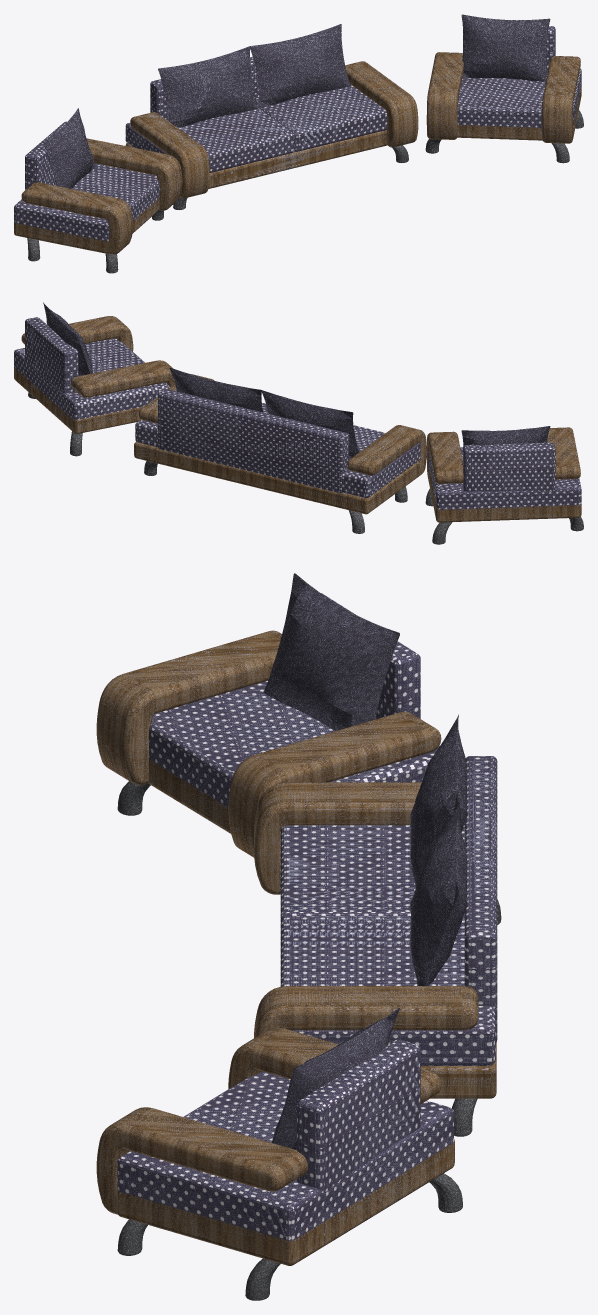
3 renders of one model, top to bottom at view 1: azimuth 30°, elevation 25°; view 2: azimuth 150°, elevation 25°; view 3: azimuth 270°, elevation 25°, orthographic. The views are drawn at different scales.
Visible parts, largest first — view 1: Rectangle2 (×4), ChamferBo0 (×2), hgjhg02 (×2), hgjhg06 (×2), ChamferBox_1 (×2), Rectangle5 (×2), hgjhg, hgjhg04 (×2), Component_1 (×2), hgjhg03; view 2: hgjhg03, hgjhg06 (×2), Component_1 (×2), Rectangle2 (×4), hgjhg, ChamferBo0 (×2), hgjhg04 (×2), hgjhg02 (×2), Rectangle5 (×2), ChamferBox_1 (×2); view 3: Rectangle2 (×4), hgjhg06 (×2), hgjhg02 (×2), Rectangle5 (×2), ChamferBox_1 (×2), Component_1 (×2), ChamferBo0 (×2), hgjhg04 (×2), hgjhg03, hgjhg, ChamferCyl.
Boxes of the visible parts, x1=… form: Rectangle2 (×4): x1=21, y1=52, x2=580, y2=254; ChamferBo0 (×2): x1=158, y1=24, x2=350, y2=127; hgjhg02 (×2): x1=125, y1=84, x2=387, y2=172; hgjhg06 (×2): x1=14, y1=68, x2=581, y2=241; ChamferBox_1 (×2): x1=43, y1=14, x2=550, y2=188; Rectangle5 (×2): x1=130, y1=61, x2=418, y2=198; hgjhg: x1=125, y1=130, x2=386, y2=188; hgjhg04 (×2): x1=14, y1=85, x2=581, y2=253; Component_1 (×2): x1=25, y1=26, x2=555, y2=190; hgjhg03: x1=150, y1=57, x2=259, y2=119; hgjhg03: x1=158, y1=389, x2=349, y2=493; hgjhg06 (×2): x1=14, y1=338, x2=581, y2=509; Component_1 (×2): x1=25, y1=317, x2=555, y2=516; Rectangle2 (×4): x1=21, y1=316, x2=580, y2=483; hgjhg: x1=134, y1=442, x2=419, y2=514; ChamferBo0 (×2): x1=169, y1=367, x2=359, y2=457; hgjhg04 (×2): x1=14, y1=367, x2=581, y2=522; hgjhg02 (×2): x1=135, y1=403, x2=420, y2=498; Rectangle5 (×2): x1=138, y1=374, x2=426, y2=475; ChamferBox_1 (×2): x1=43, y1=302, x2=550, y2=464; Rectangle2 (×4): x1=96, y1=630, x2=441, y2=1214; hgjhg06 (×2): x1=117, y1=680, x2=453, y2=1240; hgjhg02 (×2): x1=280, y1=825, x2=495, y2=1065; Rectangle5 (×2): x1=254, y1=782, x2=478, y2=1037; ChamferBox_1 (×2): x1=264, y1=573, x2=399, y2=1149; Component_1 (×2): x1=297, y1=593, x2=420, y2=1243; ChamferBo0 (×2): x1=410, y1=714, x2=467, y2=985; hgjhg04 (×2): x1=117, y1=760, x2=454, y2=1265; hgjhg03: x1=464, y1=756, x2=497, y2=1042; hgjhg: x1=420, y1=1043, x2=496, y2=1098; ChamferCyl: x1=245, y1=1258, x2=280, y2=1300.
Size of the model in its own units: 5462 by 1689 by 1023.
